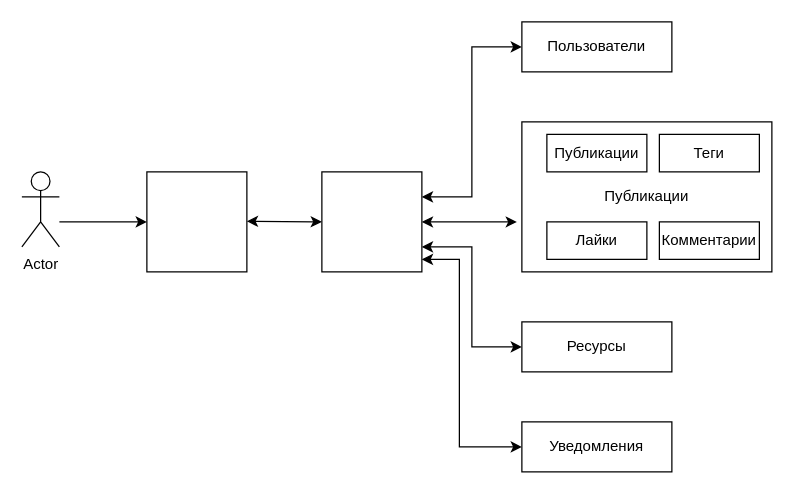
The diagram is 794 pixels wide and 494 high, and some of its shapes have lost their labels. Here are the shapes that lost their labels. From the top down, the centre of each, then its label:
At (x=196, y=221): "Frontend".
At (x=371, y=221): "BFF".
